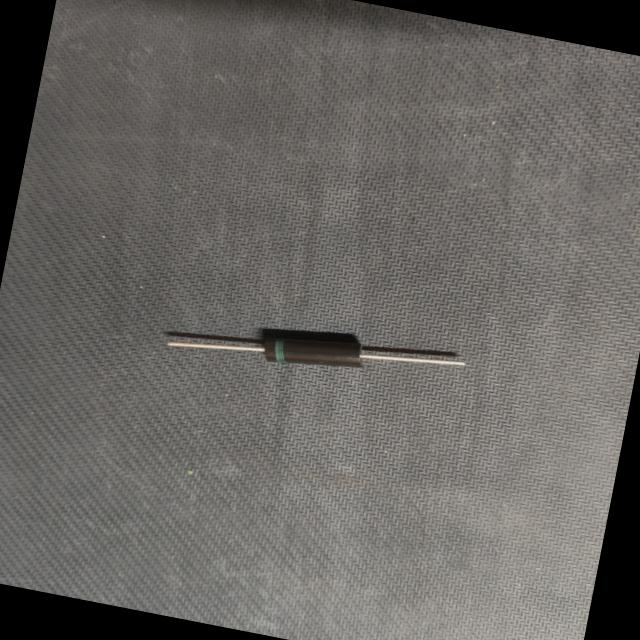resistor: (148, 290, 481, 420)
